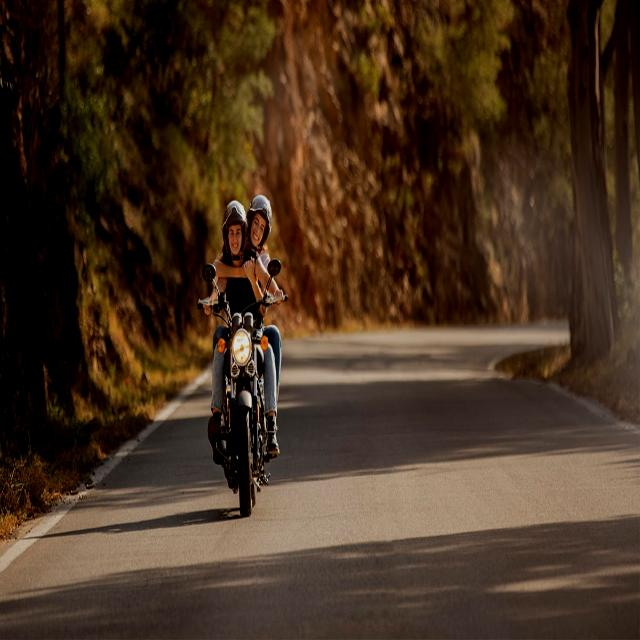MOTORCYCLE: (214, 308, 272, 524)
